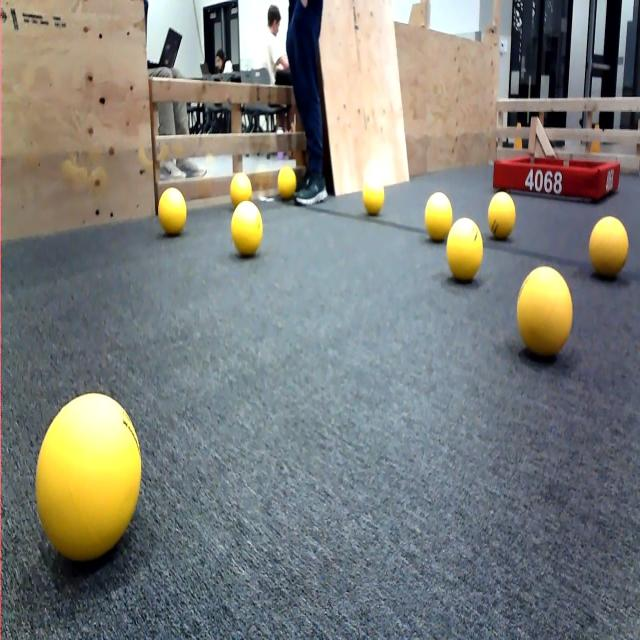Bumper: (488, 145, 629, 208)
fuel: (37, 388, 141, 560), (516, 260, 577, 364), (444, 207, 489, 289), (148, 180, 199, 248), (587, 214, 631, 286), (486, 189, 521, 254), (228, 200, 264, 255), (272, 160, 305, 212), (361, 162, 385, 229), (228, 161, 256, 210), (426, 189, 451, 240)
